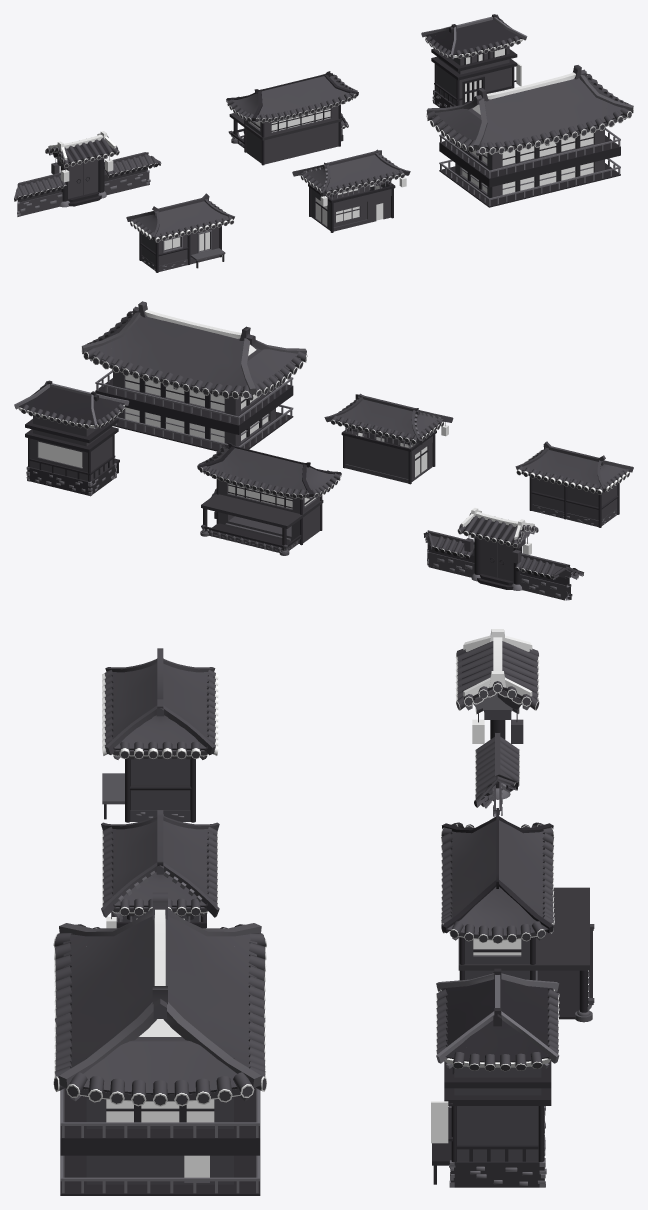
File: house.fbx
3 renders of one model, top to bottom at view 1: azimuth 30°, elevation 25°; view 2: azimuth 150°, elevation 25°; view 3: azimuth 270°, elevation 25°, orthographic. The views are drawn at different scales.
Parts seen in each view (by area): view 1: base, base4, base5, base_gate, Box001, base6, window_001, window001, window002, window003, window; view 2: base, base4, base5, base_gate, Box001, base6, window_001, window, window002, window003, window001; view 3: base, base5, base4, base6, Box001, base_gate, window_001, window002, window.
Part boxes in pixels (x1,y1,x2,y2): base: (426,65,633,207); base4: (226,71,358,165); base5: (421,14,527,107); base_gate: (14,135,161,216); Box001: (292,149,410,232); base6: (126,193,234,272); window_001: (462,72,593,194); window001: (316,177,406,225); window002: (48,131,116,182); window003: (250,109,330,132); window: (425,36,523,102); base: (81,301,307,451); base4: (197,442,341,555); base5: (14,380,129,496); base_gate: (423,513,583,600); Box001: (324,393,453,484); base6: (515,441,633,527); window_001: (125,309,268,442); window: (18,404,125,467); window002: (461,508,534,554); window003: (228,483,315,508); window001: (356,424,448,477); base: (53,892,266,1195); base5: (432,968,559,1187); base4: (441,808,594,1022); base6: (102,648,218,822); Box001: (101,810,219,928); base_gate: (455,641,539,816); window_001: (106,909,214,1177); window002: (463,629,532,743); window: (431,989,554,1143).
Size of the model in its own units: 4107 by 718 by 1850.
